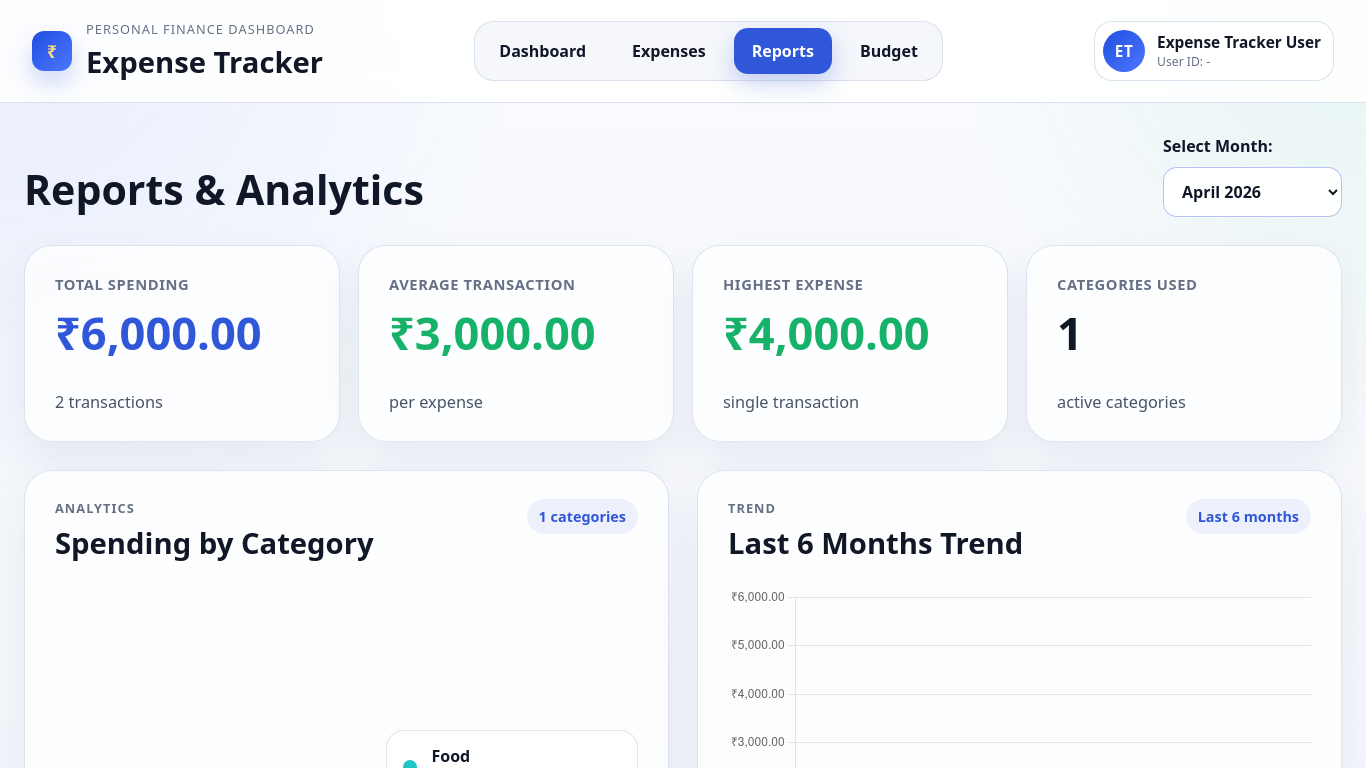
Test: Reports page › keeps a manually selected month even when it has no data
Select "March 2026" in the dropdown at (1252, 192), box [1163, 167, 1342, 217]
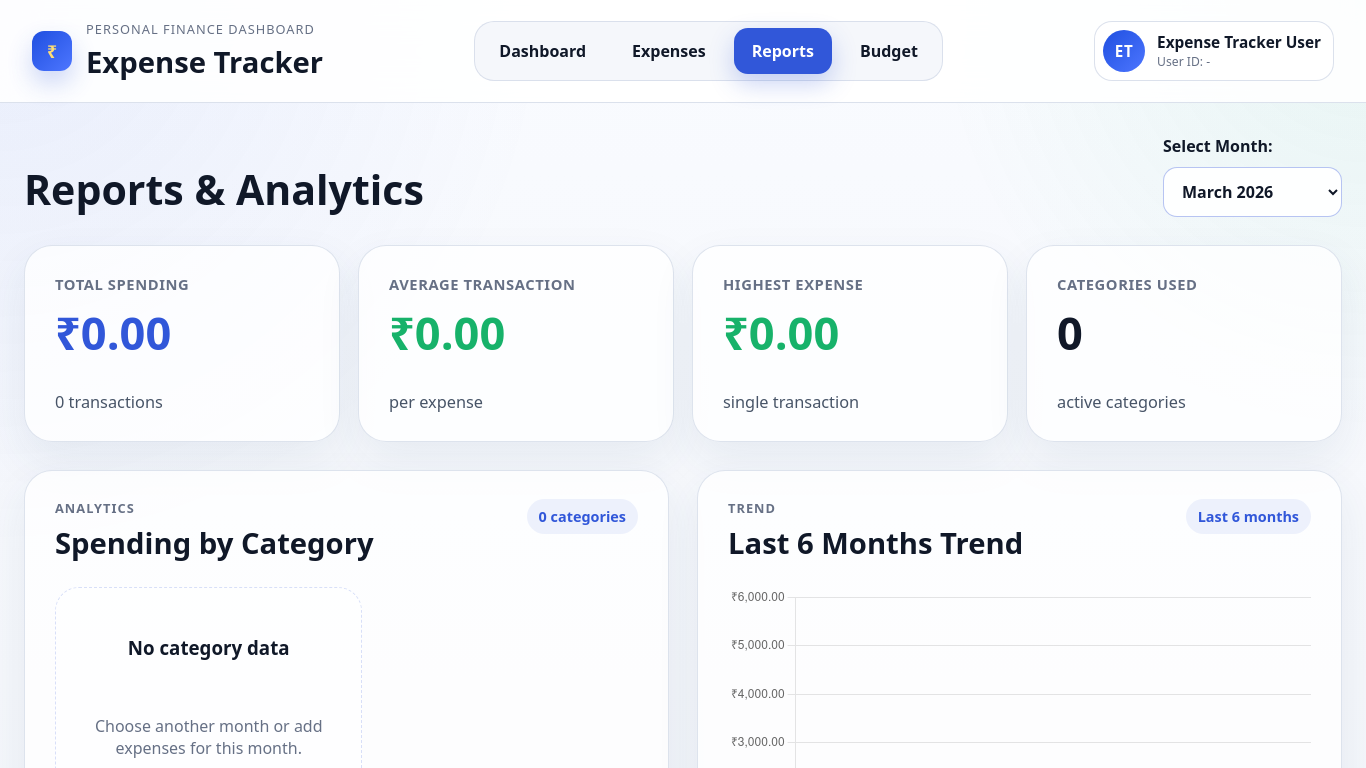
Now the heading "No category data" is shown, box [128, 635, 290, 660]
Now the text "0 transactions" is shown, box [55, 391, 163, 413]
